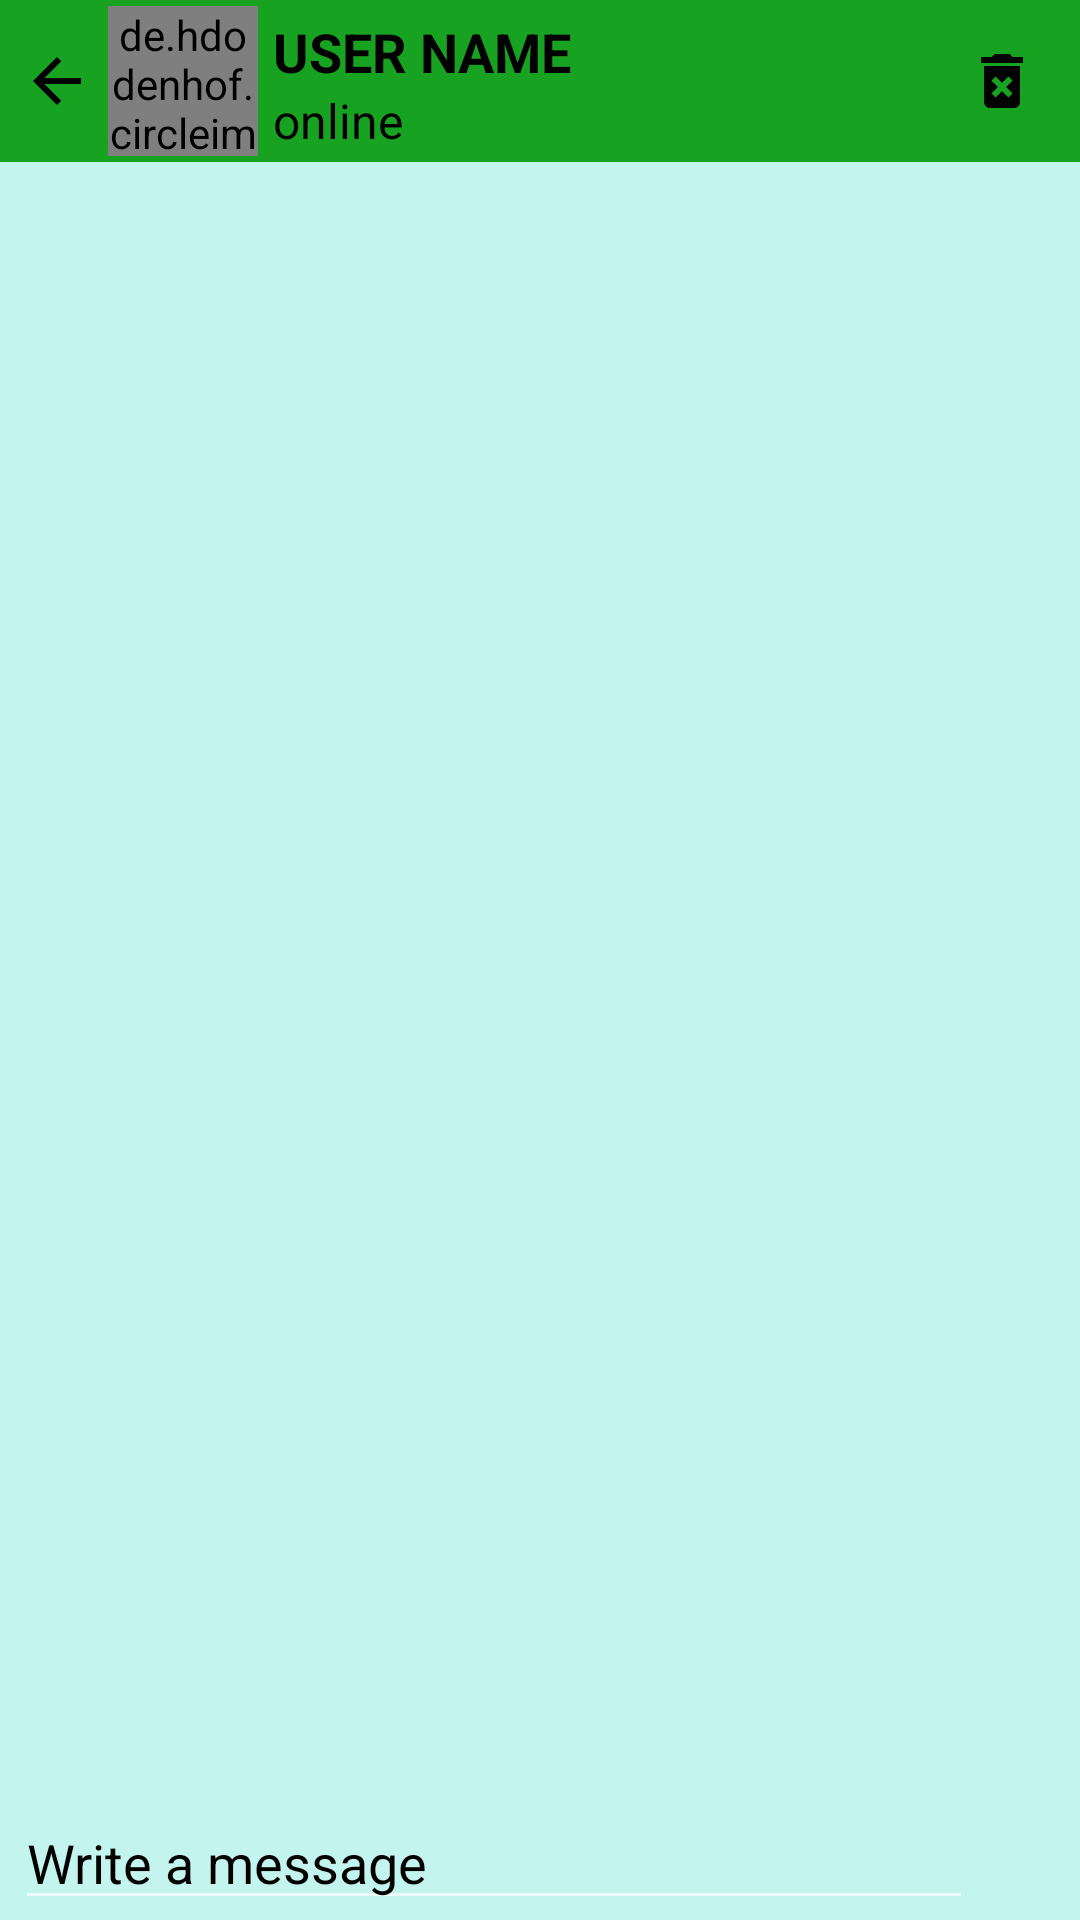

Screen size 1080 × 1920. Icon name, then its box in pixels as (x1, y1, x2, y2):
arrow back: (33, 57, 81, 105)
delete forever: (981, 54, 1023, 108)
